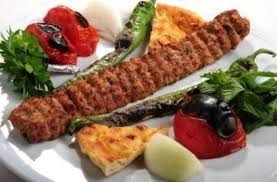kebap: (10, 10, 249, 142)
